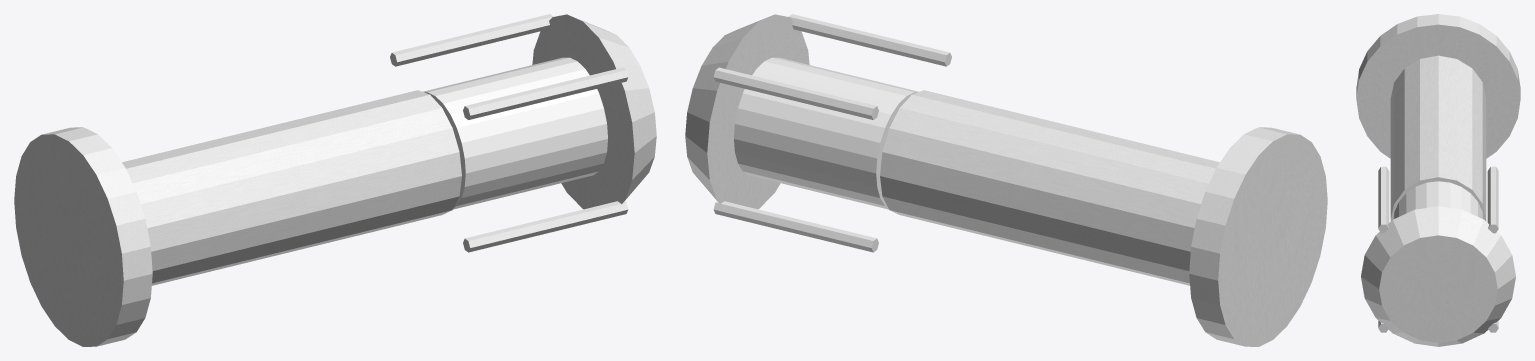
File: gardenbollardlight.obj
3 renders of one model, left to right at view 1: azimuth 30°, elevation 25°; view 2: azimuth 150°, elevation 25°; view 3: azimuth 270°, elevation 25°, orthographic. The views are drawn at different scales.
Parts seen in each view (by area): view 1: Metal, Base, Light0; view 2: Metal, Base, Light0; view 3: Metal, Base, Light0.
Boxes of the visible parts, bbox=[...] form: Metal: bbox=[122, 14, 656, 285]; Base: bbox=[14, 127, 152, 346]; Light0: bbox=[422, 57, 607, 209]; Metal: bbox=[685, 14, 1219, 285]; Base: bbox=[1189, 127, 1327, 346]; Light0: bbox=[734, 57, 919, 209]; Metal: bbox=[1361, 55, 1515, 346]; Base: bbox=[1356, 14, 1520, 158]; Light0: bbox=[1393, 181, 1483, 219].
Bounding box in the file's own units: 1.04 × 0.36 × 0.36.
